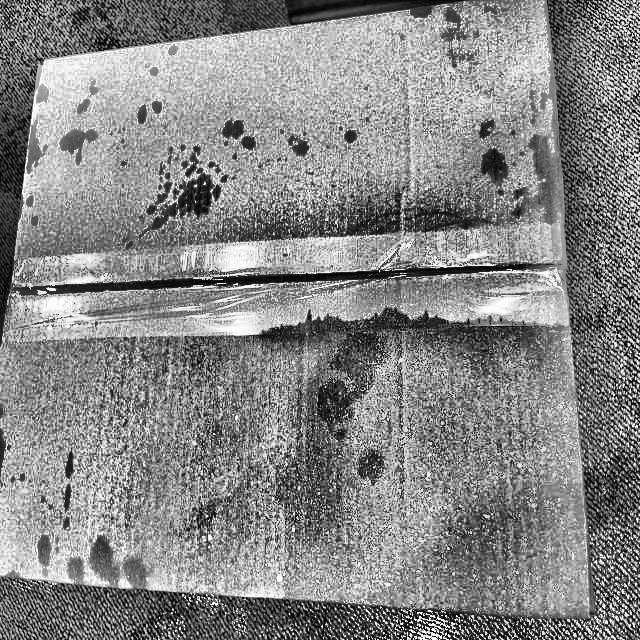box: (0, 0, 600, 620)
wet: (215, 303, 577, 600)
